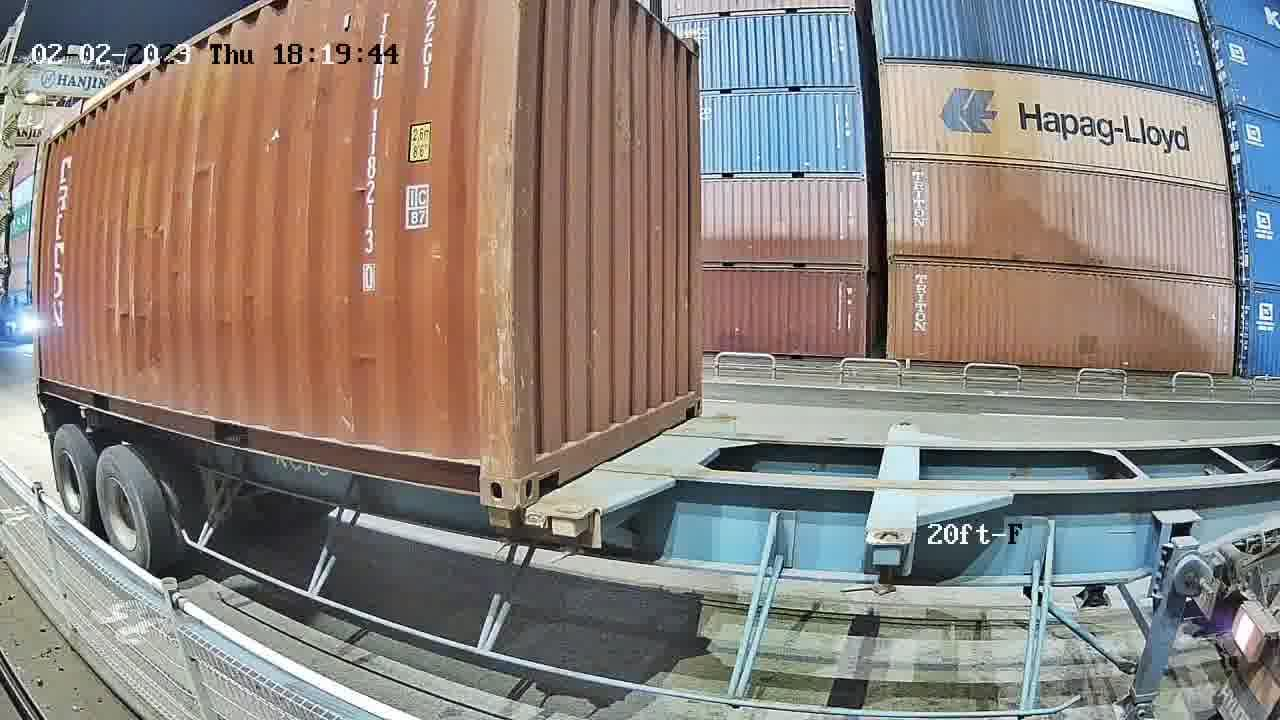Chassis: (550, 414, 736, 522)
Cone: (553, 504, 595, 558), (483, 503, 514, 540)
Hole_L: (511, 423, 563, 508)
Hole_R: (453, 438, 513, 511), (670, 373, 702, 425)
Tire: (96, 452, 151, 572), (51, 428, 95, 531)
